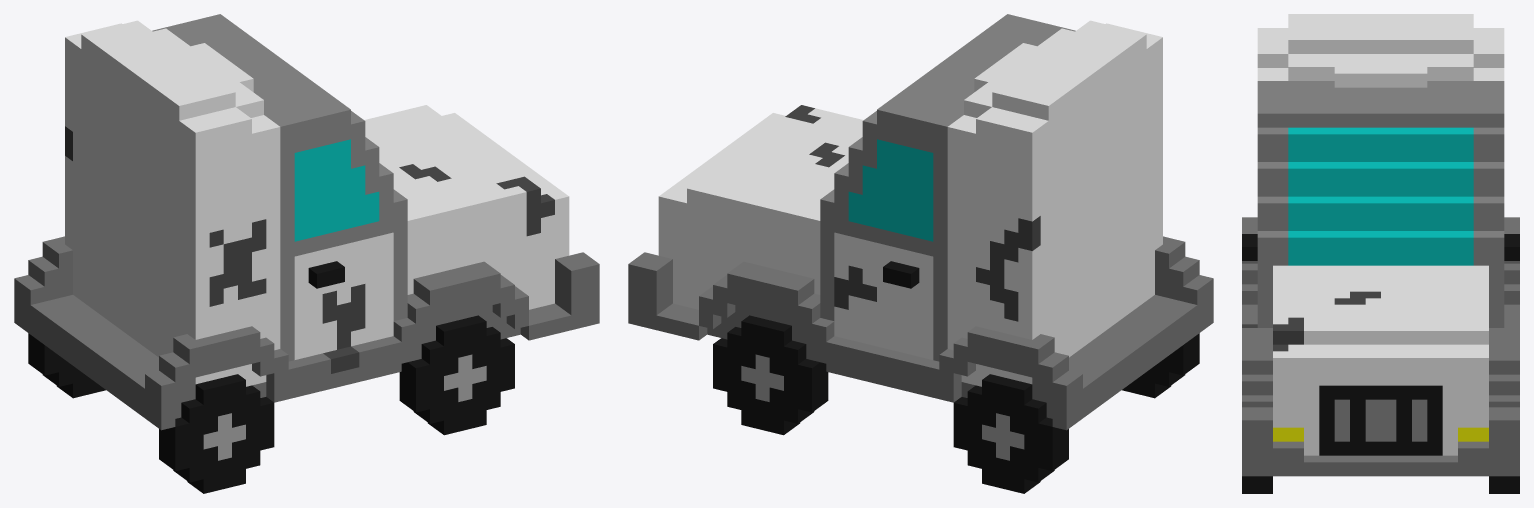
The model's file is truck1_health1.obj.
3 views of the same model, side by side, from view 1: azimuth 30°, elevation 25°; view 2: azimuth 150°, elevation 25°; view 3: azimuth 270°, elevation 25° (orthographic). The views are drawn at different scales.
Visible parts, largest first — view 1: truck1_health1; view 2: truck1_health1; view 3: truck1_health1.
Boxes of the visible parts, x1=… form: truck1_health1: x1=14, y1=14, x2=599, y2=493; truck1_health1: x1=628, y1=14, x2=1213, y2=493; truck1_health1: x1=1242, y1=14, x2=1519, y2=493.
Bounding box in the file's own units: 31 × 25 × 18.
1 material, 1 textured.
